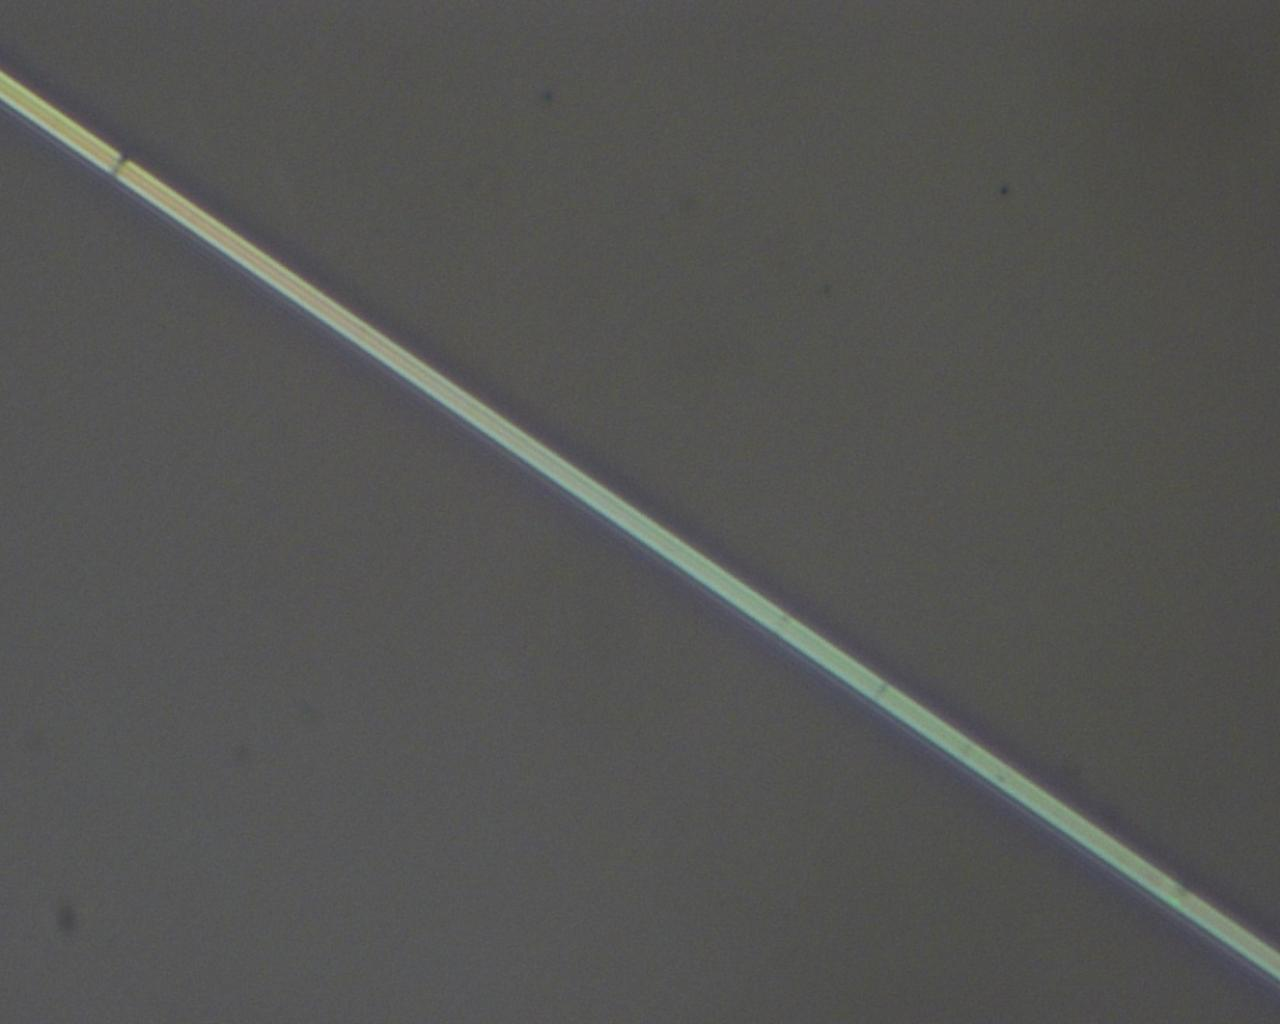fiber: (527, 0, 799, 1024)
